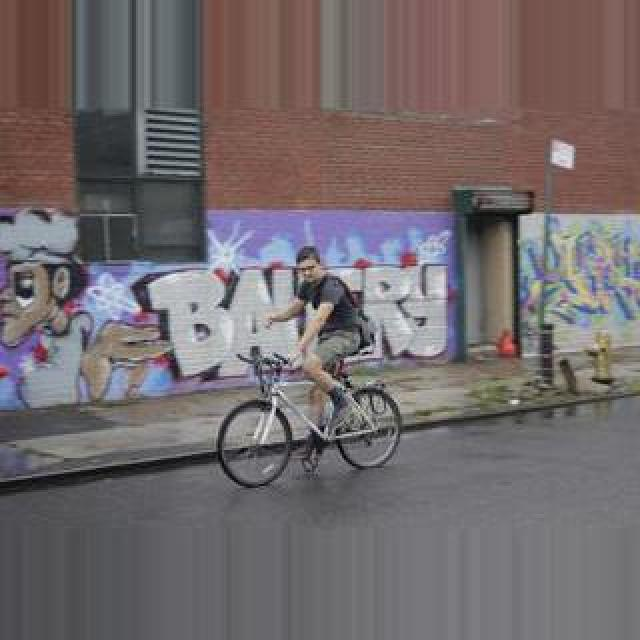MC-Bike: (264, 244, 362, 456)
Person: (217, 348, 403, 484)
